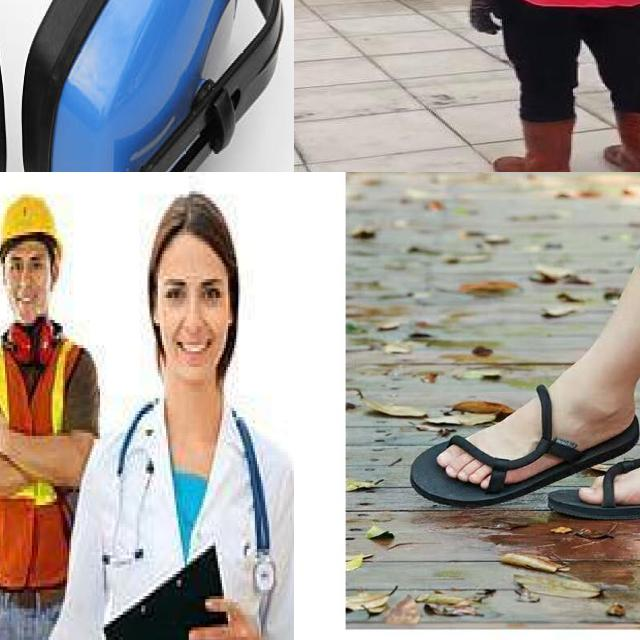Ear-protection: (0, 0, 294, 172)
No_Ear-Protection: (147, 186, 242, 390), (0, 190, 68, 335)
Sandals: (378, 333, 640, 558)
hand_glove: (463, 0, 514, 45)
person: (456, 0, 640, 172)
